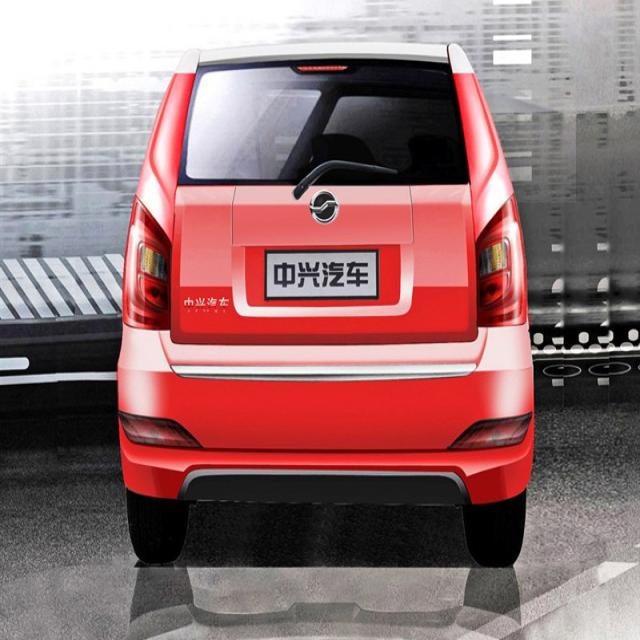back_glass: (175, 52, 471, 187)
back_left_side_light: (121, 191, 172, 334)
back_right_side_light: (474, 192, 528, 328)
rear_bumper: (115, 328, 534, 504)
